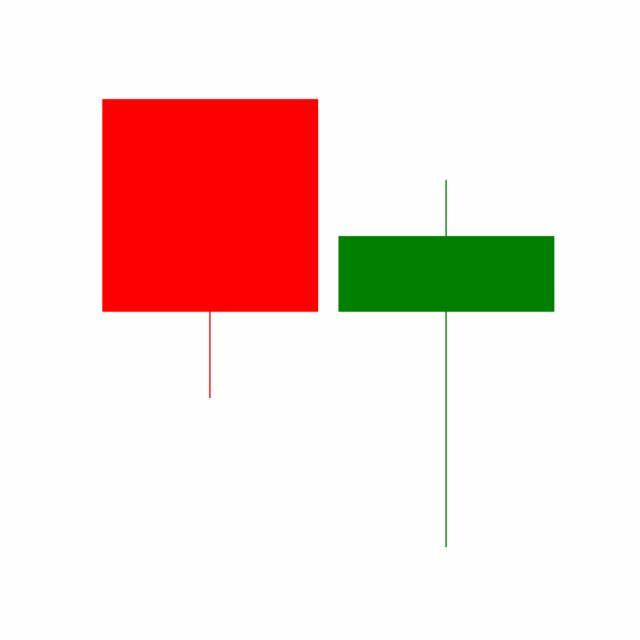Hanging Man: (328, 176, 566, 552)
